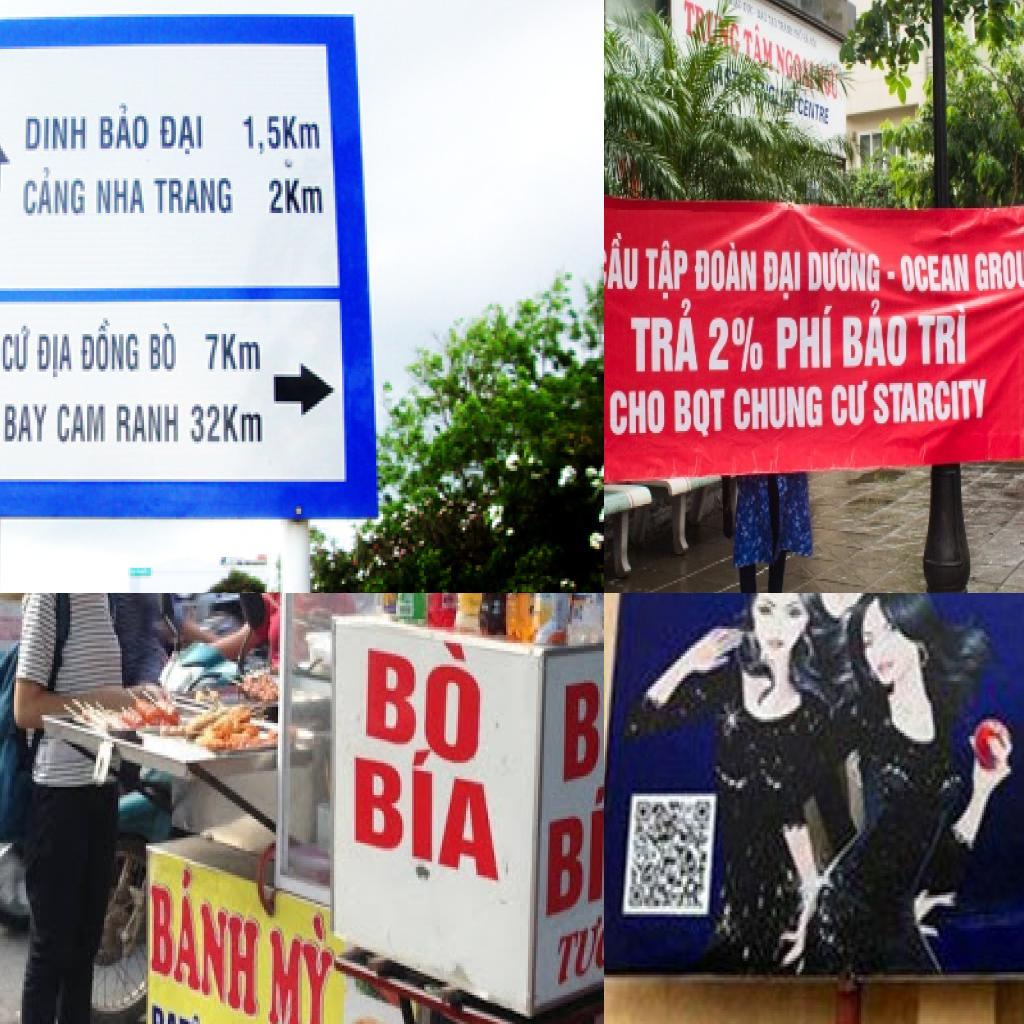text: (342, 728, 502, 883), (146, 848, 266, 1019), (358, 630, 494, 774), (264, 888, 342, 1024), (540, 776, 604, 922), (556, 645, 604, 789), (630, 298, 700, 374), (873, 379, 988, 425), (842, 298, 909, 370), (552, 901, 604, 992), (733, 385, 824, 433), (78, 315, 142, 377), (21, 165, 90, 221), (776, 306, 834, 372), (151, 173, 235, 218), (682, 0, 742, 60), (242, 111, 321, 156), (808, 246, 880, 294), (694, 240, 758, 292), (192, 401, 264, 447), (708, 314, 764, 373), (23, 111, 92, 156), (918, 304, 968, 366), (114, 404, 183, 447), (94, 103, 151, 154), (203, 329, 265, 374), (609, 388, 667, 436), (900, 254, 970, 293), (673, 388, 726, 438), (645, 241, 688, 302), (55, 401, 110, 447), (267, 176, 326, 218), (94, 176, 151, 218), (3, 401, 55, 447), (160, 108, 205, 159), (974, 248, 1024, 292), (776, 45, 815, 100), (762, 250, 802, 302), (604, 233, 638, 292), (37, 332, 76, 382), (150, 992, 208, 1024), (831, 381, 869, 429), (744, 18, 774, 76), (3, 320, 35, 374), (146, 320, 178, 374), (797, 97, 831, 127)
